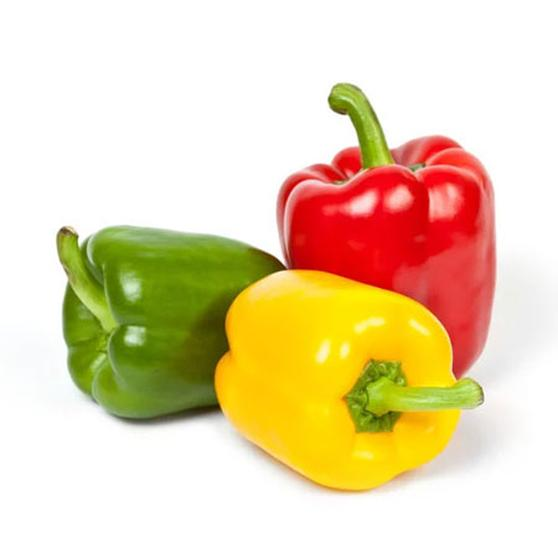pepper: (274, 130, 508, 334)
